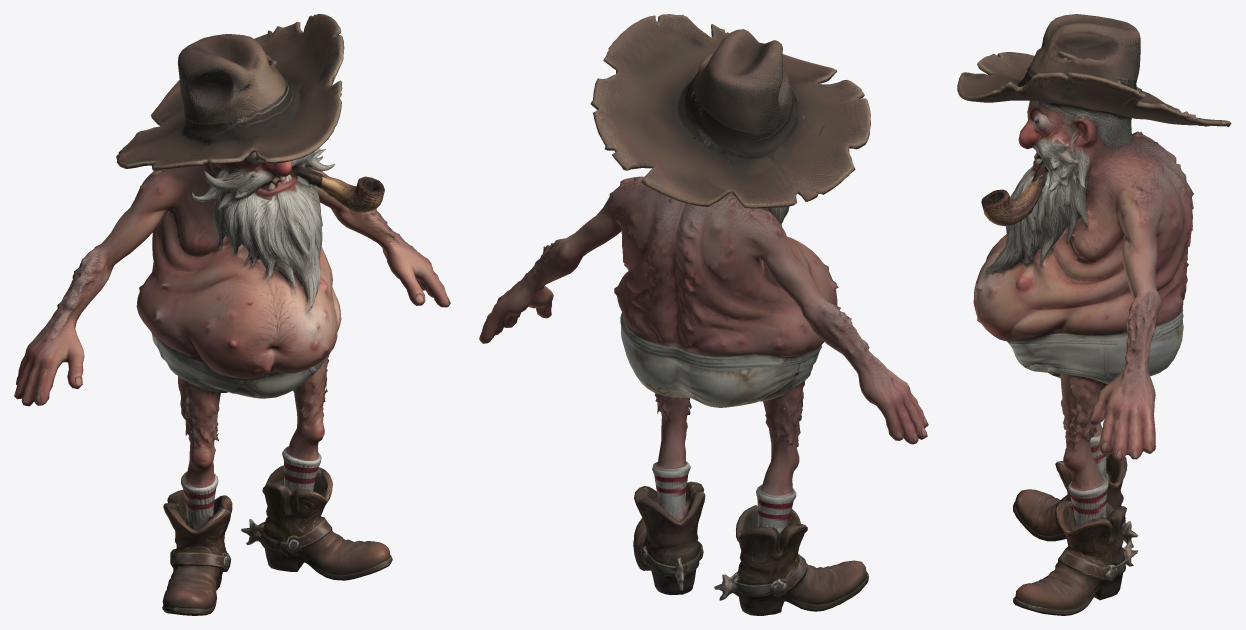
Rendered from Cleatus_v2_02_weightpainting17APose.glb.
The picture shows the model from 3 angles, left to right: view 1: azimuth 30°, elevation 25°; view 2: azimuth 150°, elevation 25°; view 3: azimuth 270°, elevation 25°; orthographic projection. The views are drawn at different scales.
Visible parts, largest first — view 1: Mesh_0; view 2: Mesh_0; view 3: Mesh_0.
Boxes of the visible parts, <box> form: Mesh_0: <box>14,14,450,615</box>; Mesh_0: <box>479,14,928,615</box>; Mesh_0: <box>957,14,1231,615</box>.
Bounding box in the file's own units: 1.31 × 1.61 × 0.7333.
1 material, 1 textured.
